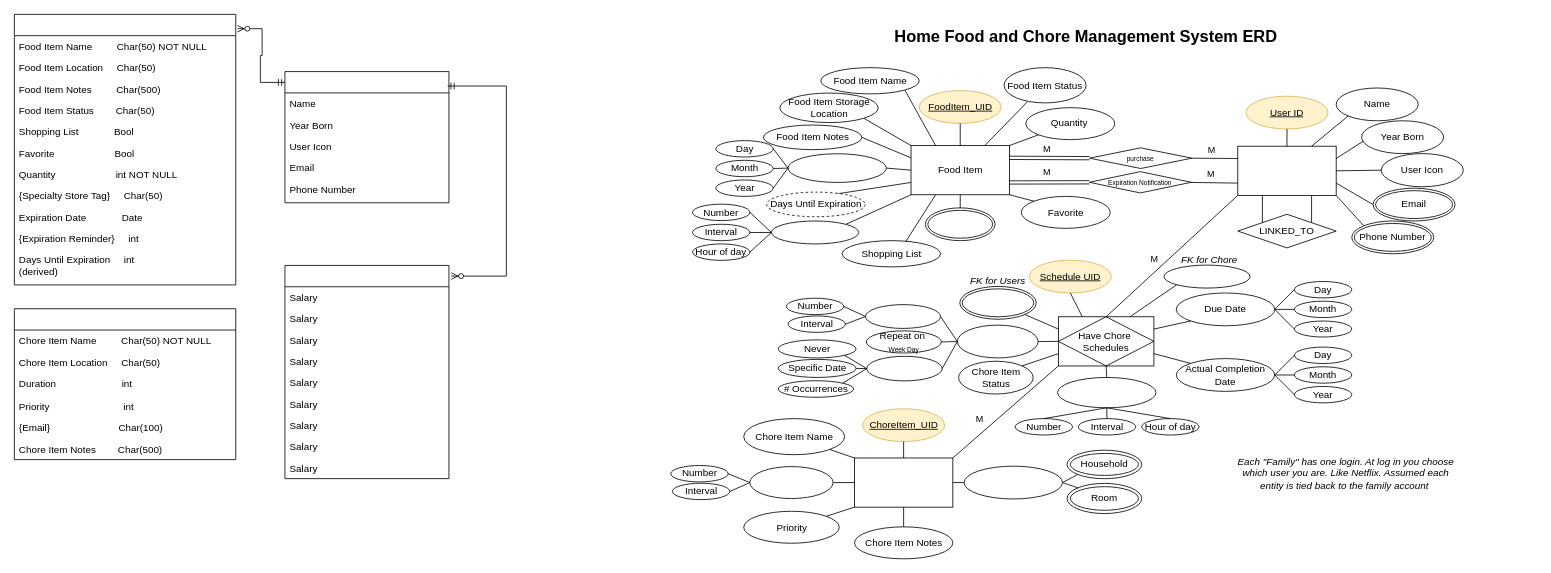
This 1551x573 diagram has some shape labels left out. The shapes that lost their labels are listed below. From the top down, each one's box as (x1, y1, x2, y2) in pixels, then its label:
(14, 14, 236, 285): FoodItem_UID int NOT NULL
(284, 71, 449, 203): User _ID int NOT NULL
(787, 153, 886, 182): Expiration Date
(1237, 145, 1336, 195): Users
(771, 220, 859, 244): Expiration Reminder
(925, 207, 995, 241): Specialty Store Tag
(1163, 264, 1250, 288): choretocomplete
(865, 304, 941, 328): Repeat Every
(959, 286, 1036, 319): Assignment
(957, 324, 1038, 358): Recurrence / Frequency
(14, 308, 236, 460): Chore_UID int NOT NULL
(284, 265, 449, 479): ChoreSchedule_ID int NOT NULL
(866, 355, 942, 381): End Details
(1057, 377, 1156, 408): Notification
(749, 466, 833, 499): Duration
(854, 457, 953, 507): Chore
(963, 465, 1062, 499): Chore Item Location
